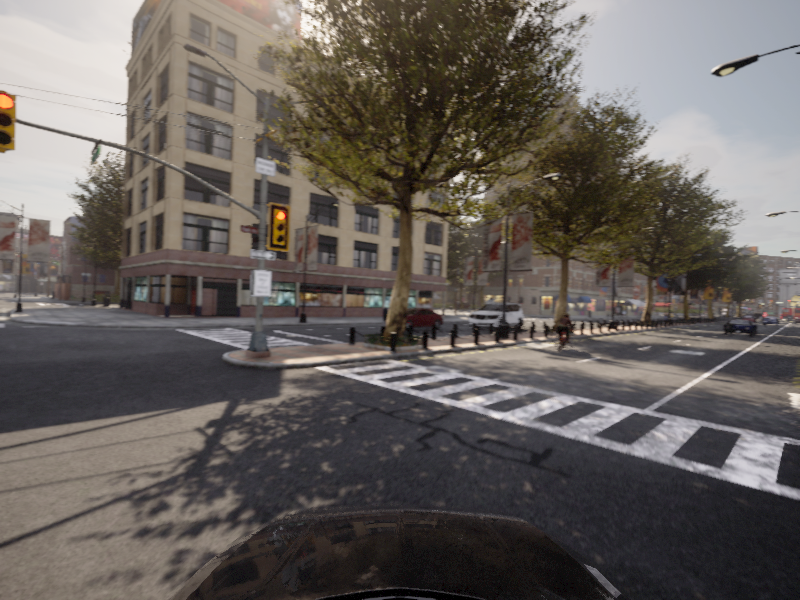vehicle: (465, 301, 527, 333), (381, 307, 447, 331), (548, 313, 579, 353), (722, 318, 758, 337)
